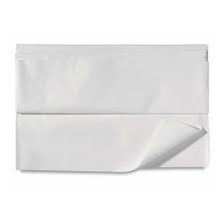tissue: (6, 36, 215, 180)
